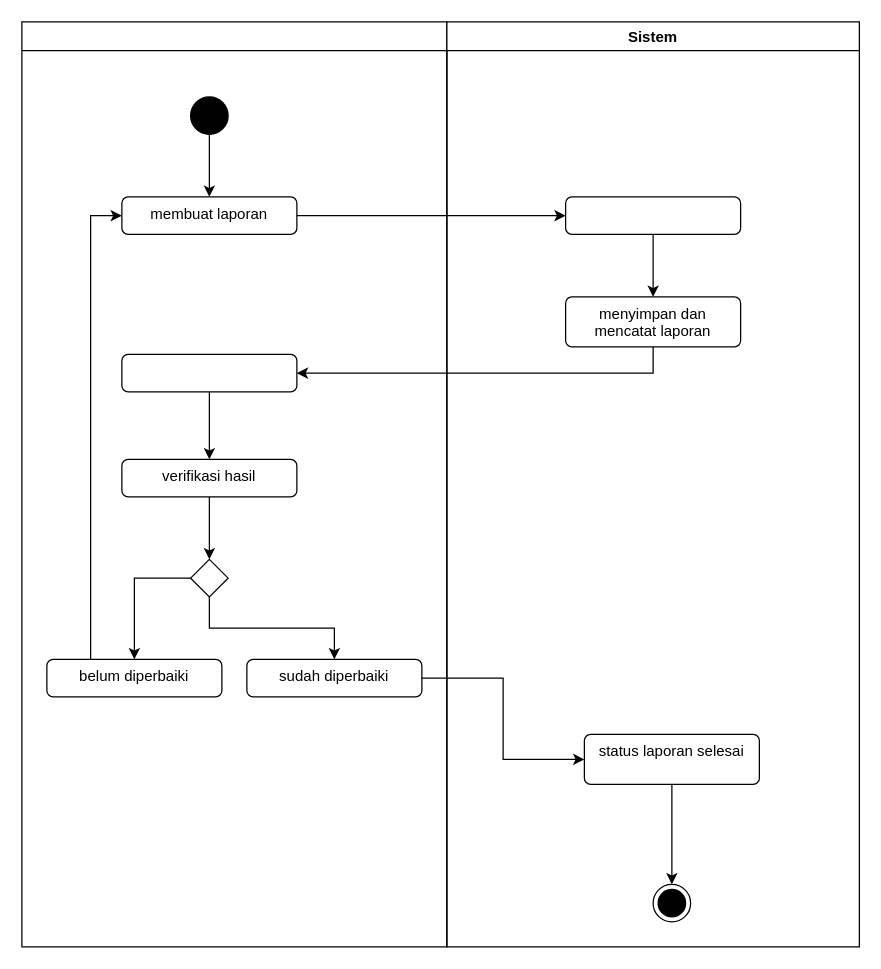
The diagram is 881 pixels wide and 969 high, and some of its shapes have lost their labels. Here are the shapes that lost their labels. From the top down, the box of each, then its label:
(564, 196, 741, 234): memeriksa laporan
(121, 353, 297, 392): melihat status laporan
(21, 21, 447, 947): Pelapor
